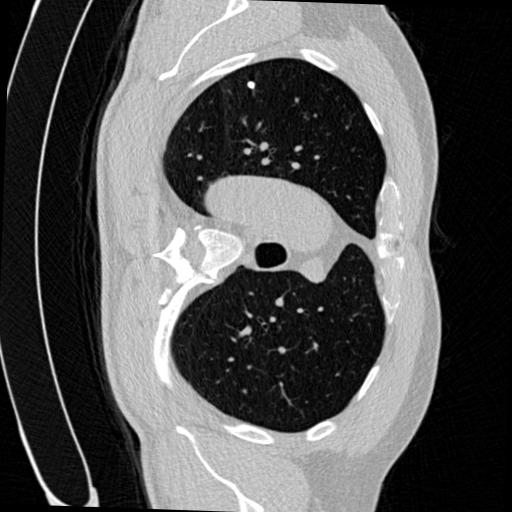nodule: (245, 80, 259, 94)
